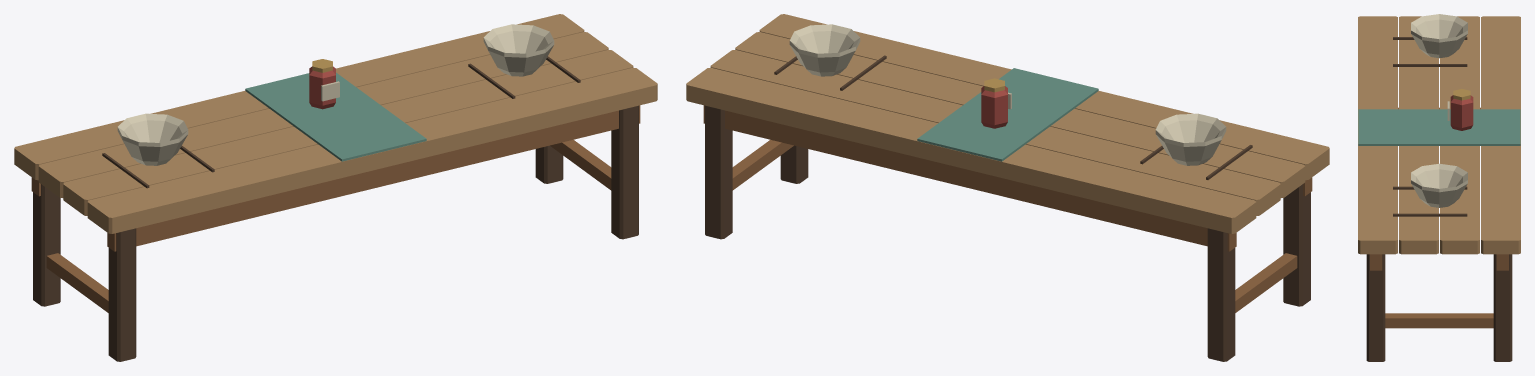
The model's file is table_diner.glb.
3 views of the same model, side by side, from view 1: azimuth 30°, elevation 25°; view 2: azimuth 150°, elevation 25°; view 3: azimuth 270°, elevation 25° (orthographic). The views are drawn at different scales.
Visible parts, largest first — view 1: geometry; view 2: geometry; view 3: geometry.
Part boxes in pixels (x1,y1,x2,y2): geometry: [14, 14, 657, 361]; geometry: [686, 14, 1329, 361]; geometry: [1358, 14, 1520, 361].
Bounding box in the file's own units: 2.85 × 0.96 × 0.874.
